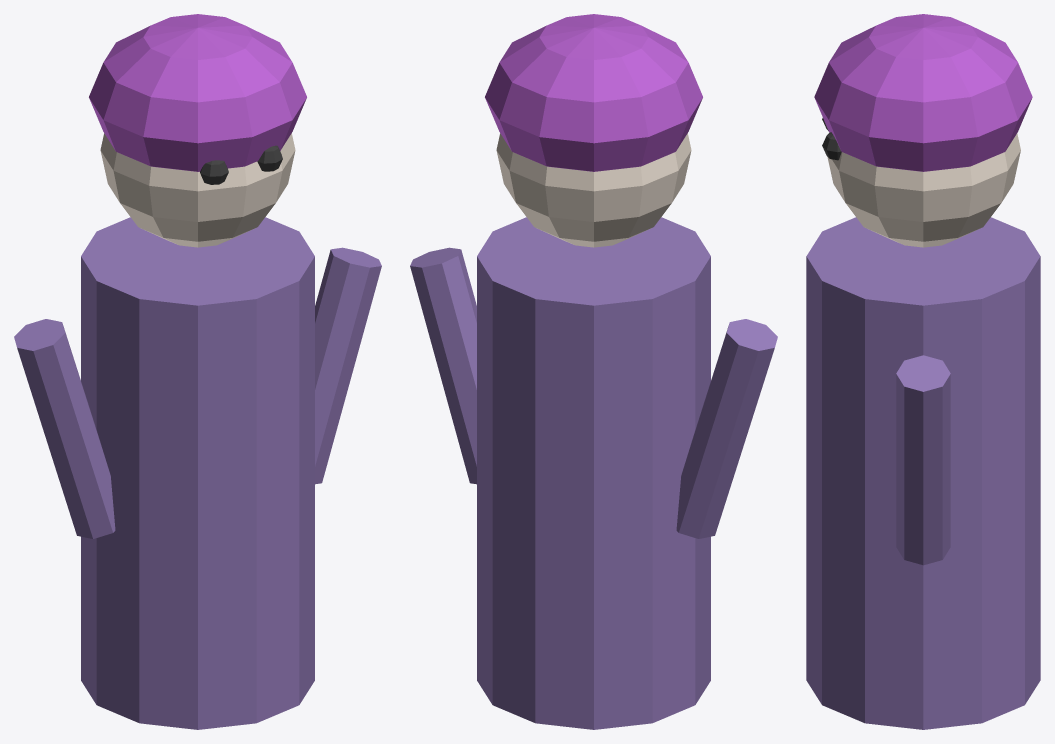
The model's file is hero_mozart.glb.
3 views of the same model, side by side, from view 1: azimuth 30°, elevation 25°; view 2: azimuth 150°, elevation 25°; view 3: azimuth 270°, elevation 25° (orthographic).
Visible parts, largest first — view 1: hero_mozart_Body, hero_mozart_Wig, hero_mozart_Head, hero_mozart_Arm, hero_mozart_Arm.001; view 2: hero_mozart_Body, hero_mozart_Wig, hero_mozart_Head, hero_mozart_Arm, hero_mozart_Arm.001; view 3: hero_mozart_Body, hero_mozart_Wig, hero_mozart_Head, hero_mozart_Arm.001.
Part boxes in pixels (left/top/right/bottom): hero_mozart_Body: left=81, top=217, right=314, bottom=729; hero_mozart_Wig: left=89, top=14, right=306, bottom=171; hero_mozart_Head: left=100, top=133, right=295, bottom=247; hero_mozart_Arm: left=14, top=319, right=115, bottom=538; hero_mozart_Arm.001: left=315, top=247, right=381, bottom=484; hero_mozart_Body: left=477, top=217, right=710, bottom=729; hero_mozart_Wig: left=485, top=14, right=702, bottom=171; hero_mozart_Head: left=496, top=133, right=691, bottom=247; hero_mozart_Arm: left=676, top=319, right=777, bottom=538; hero_mozart_Arm.001: left=410, top=247, right=476, bottom=484; hero_mozart_Body: left=806, top=217, right=1040, bottom=729; hero_mozart_Wig: left=814, top=14, right=1032, bottom=171; hero_mozart_Head: left=827, top=133, right=1020, bottom=247; hero_mozart_Arm.001: left=896, top=355, right=950, bottom=565.
Size of the model in its own units: 1.07 by 1.85 by 0.6.
